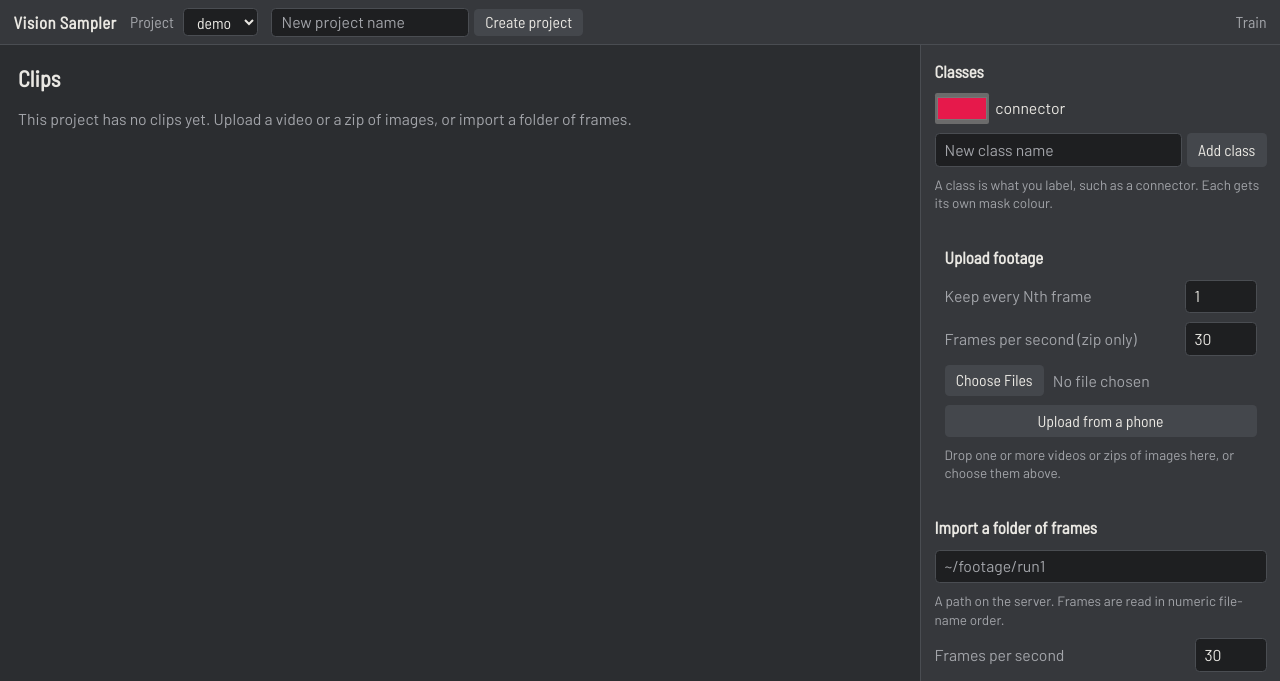
Clips page › adds a class to the selected project
Check: the list item "connector" is shown, box [934, 93, 1065, 124]
Type "bolt" into the field labelled "New class name".
click(1058, 150); type("bolt")  # box [934, 133, 1182, 167]
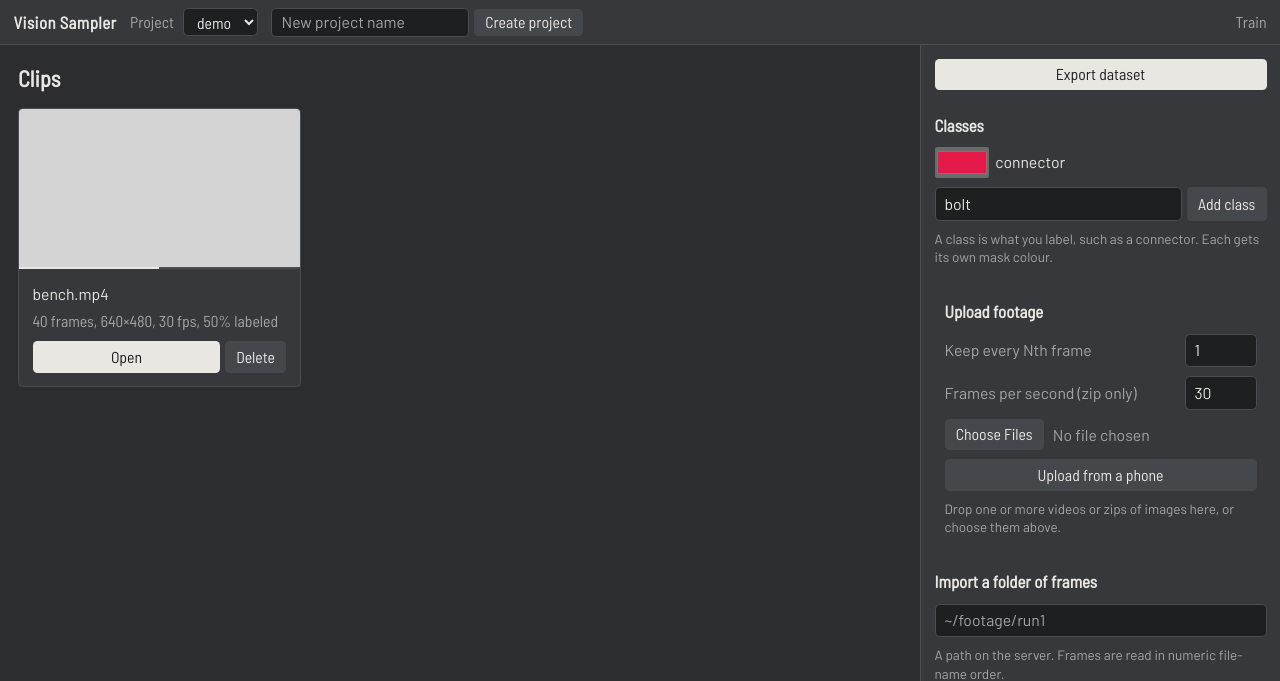
Click the button "Add class".
click(1227, 204)  # box [1187, 187, 1267, 221]
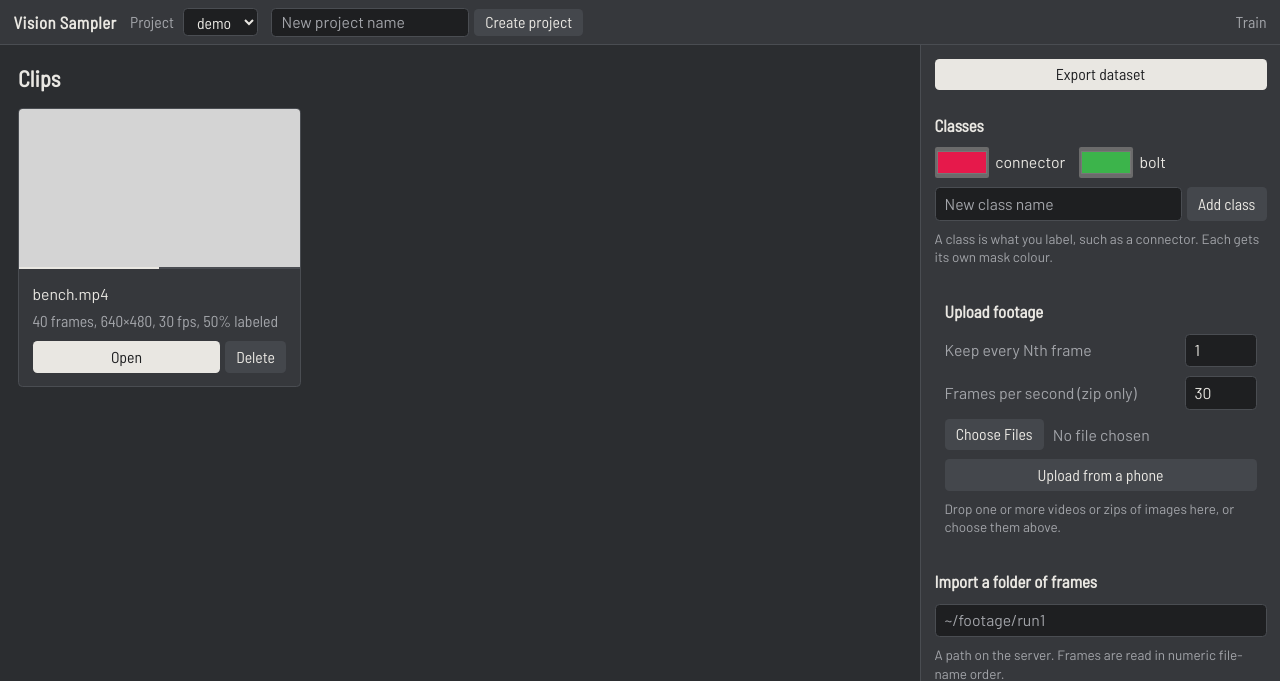
Check: the list item "bolt" is shown, box [1079, 147, 1166, 178]
